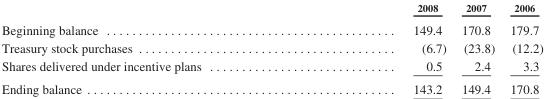table: (0, 0, 542, 96)
table column: (0, 0, 306, 96), (306, 0, 453, 96), (453, 0, 501, 96), (501, 0, 542, 96)
table column header: (0, 0, 542, 17)
table row: (0, 17, 542, 38), (0, 56, 542, 77), (0, 77, 542, 96), (0, 38, 542, 56), (0, 0, 542, 17)
